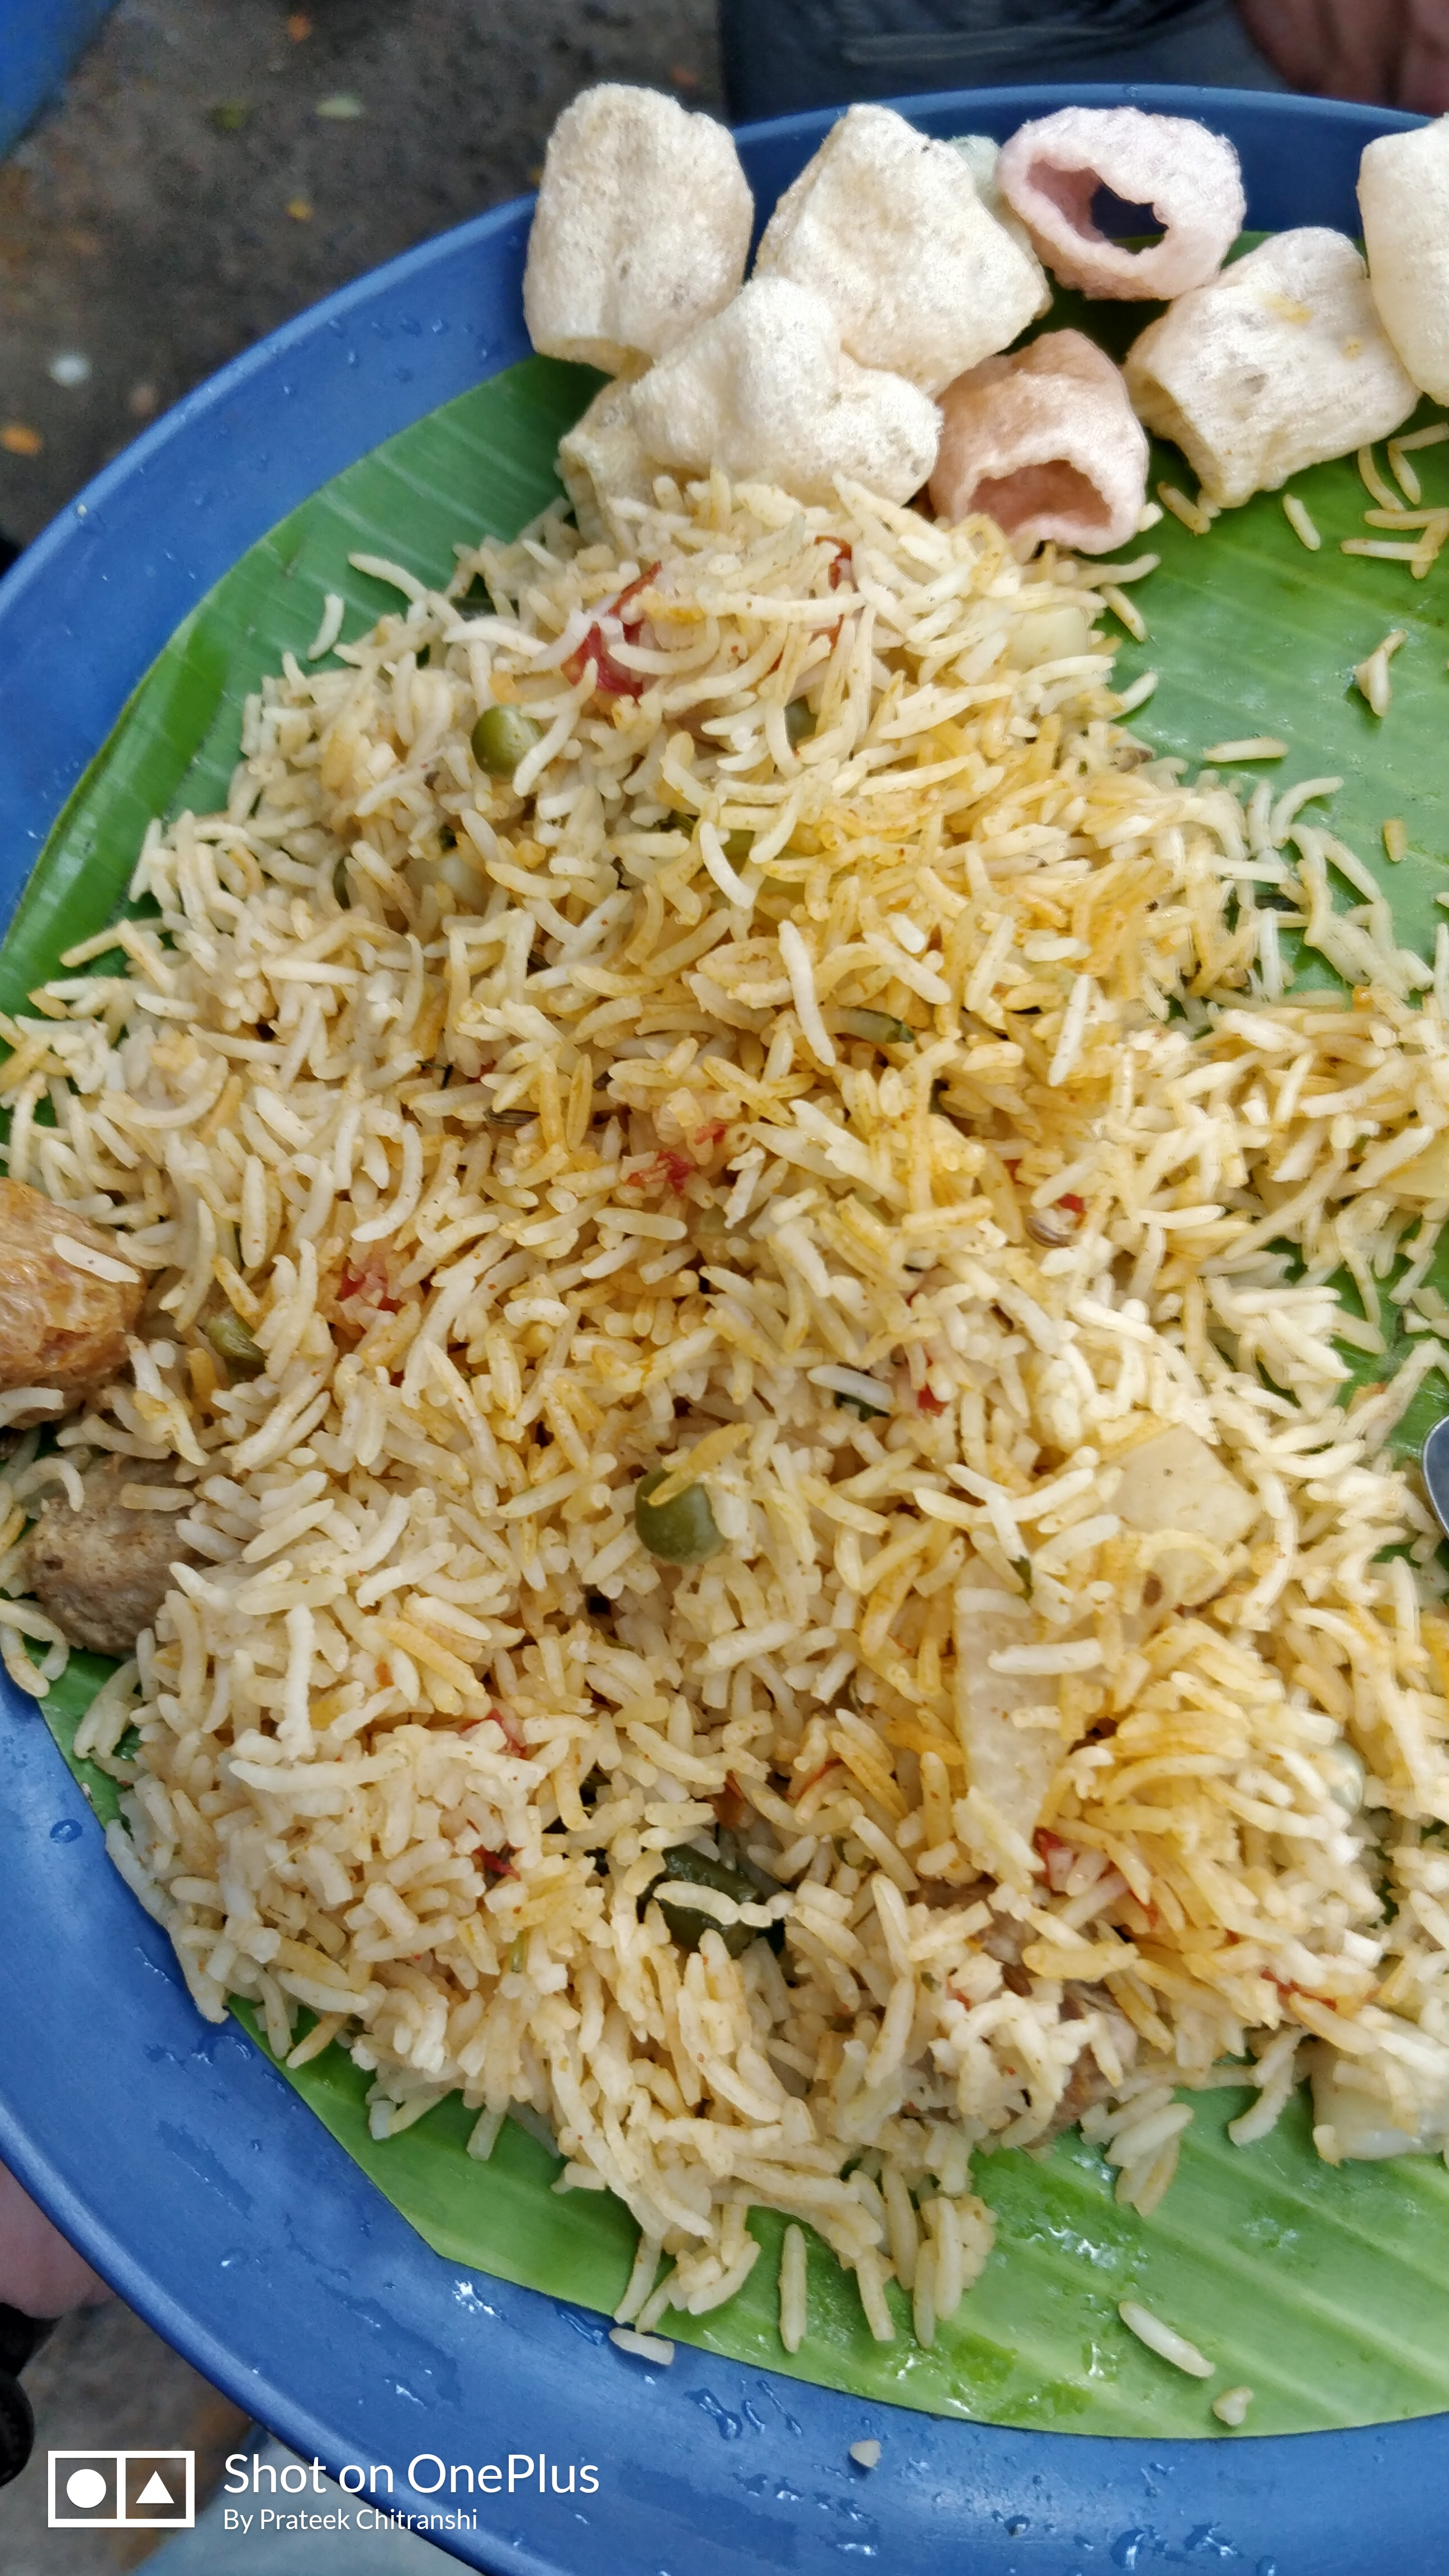food: (0, 69, 1449, 2450)
